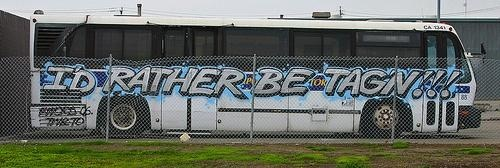bus: (26, 5, 486, 140)
